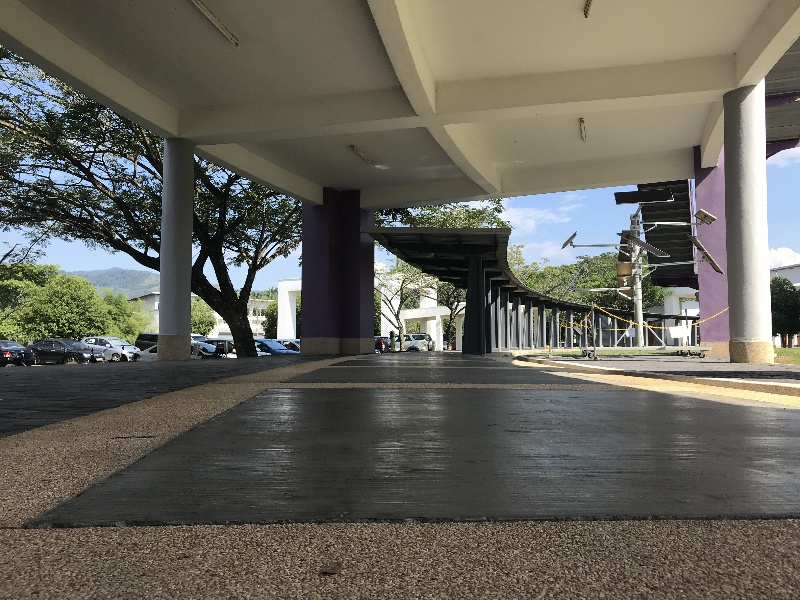Block D Pillar 4: (6, 14, 800, 560)
pillar: (709, 84, 786, 373), (291, 178, 374, 358), (144, 125, 197, 374), (685, 144, 735, 358), (456, 250, 491, 361)
